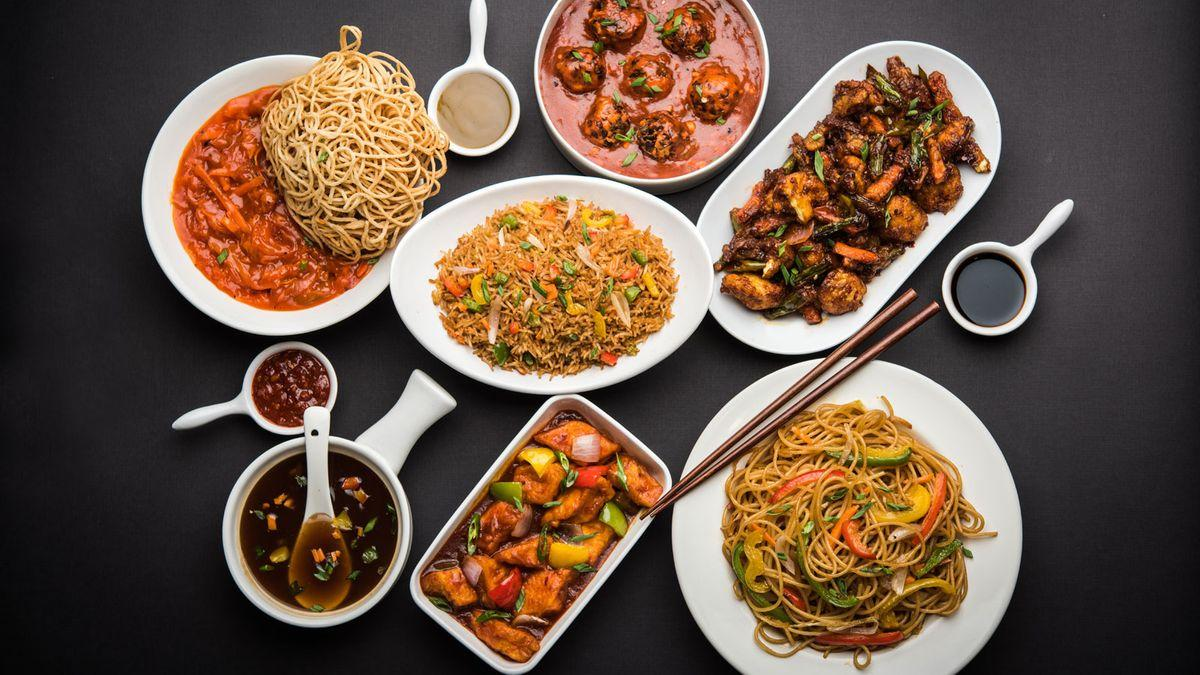Braised Crucian Carp: (673, 356, 1022, 671), (699, 38, 1001, 351), (140, 51, 405, 334), (409, 394, 668, 669), (387, 175, 698, 392), (531, 2, 755, 196), (220, 435, 410, 627)
